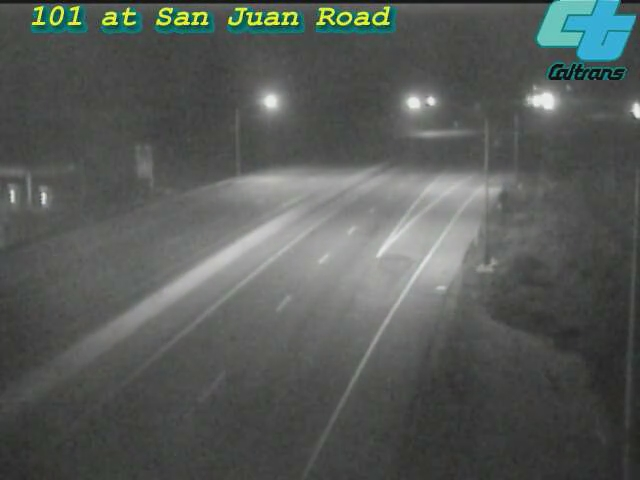vehicle: (523, 78, 573, 128), (611, 86, 640, 136)
